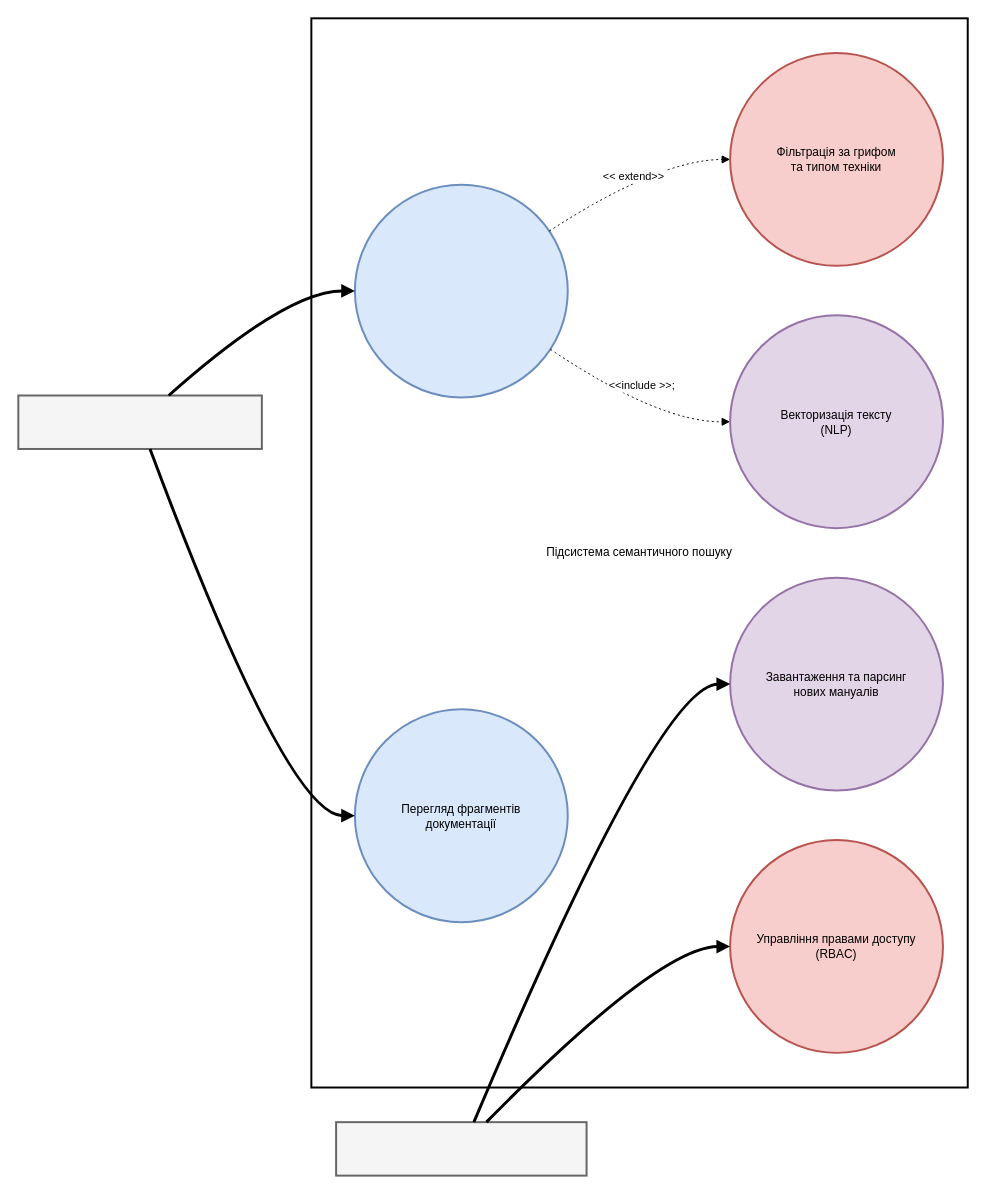
The diagram is 985 pixels wide and 1193 high, and some of its shapes have lost their labels. The centre of each missing label's shape, as x and y in pixels:
"Введення пошукового запиту природною мовою" goes at pixel 460 290.
"👤 Адміністратор безпеки" goes at pixel 461 1148.
"👤 Військовий спеціаліст" goes at pixel 139 421.
